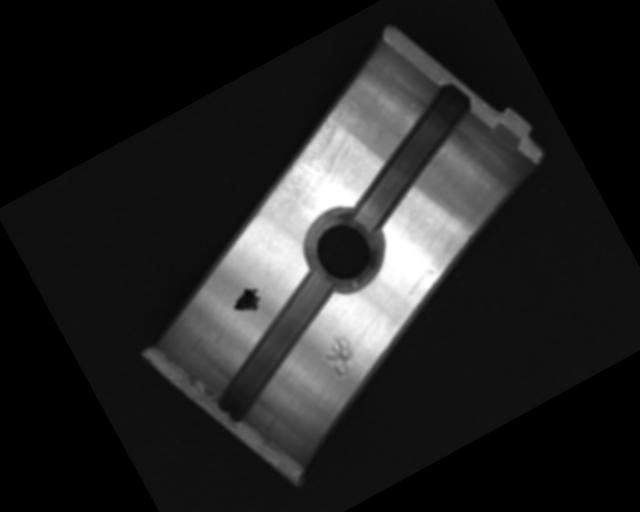blot: (227, 282, 268, 322)
bruise: (313, 328, 364, 382)
gap: (321, 78, 506, 239), (185, 266, 367, 426)
hole: (295, 197, 393, 303)
scratch: (239, 91, 391, 228)
